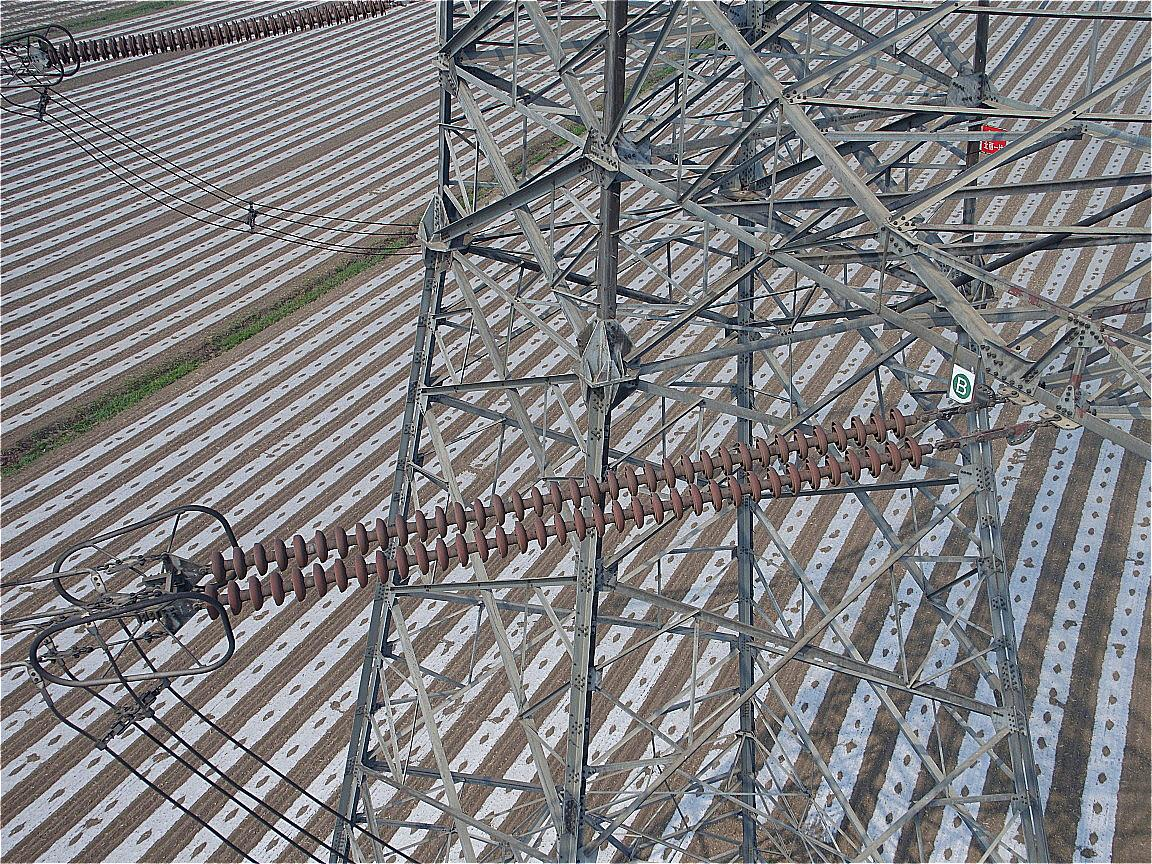insultor1: (203, 409, 921, 618)
insultor2: (47, 1, 390, 69)
